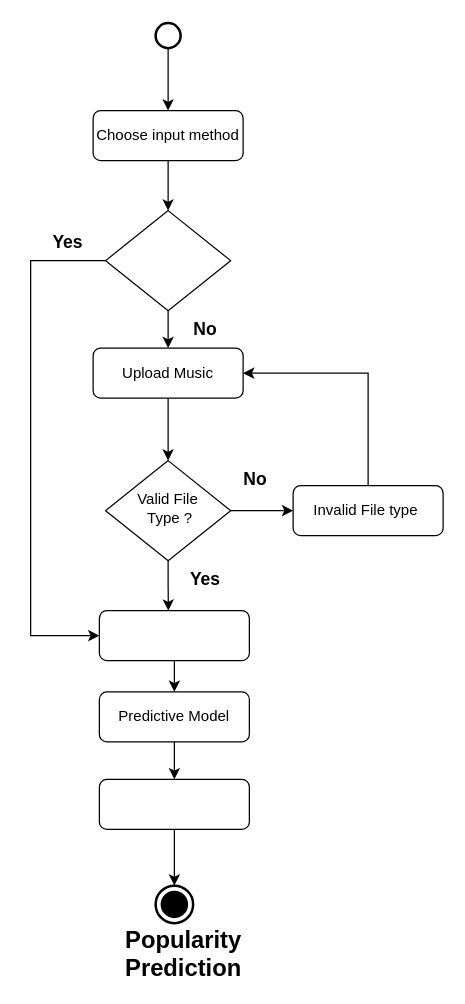
Some shapes in this 465 by 1004 pixel diagram are drawn without their labels. The centre of each missing label's shape, as x and y in pixels:
"Display Popularity Label of the music" belongs at [173,803].
"Is Search Music?" belongs at [167,260].
"Preprocess Music" belongs at [173,635].
